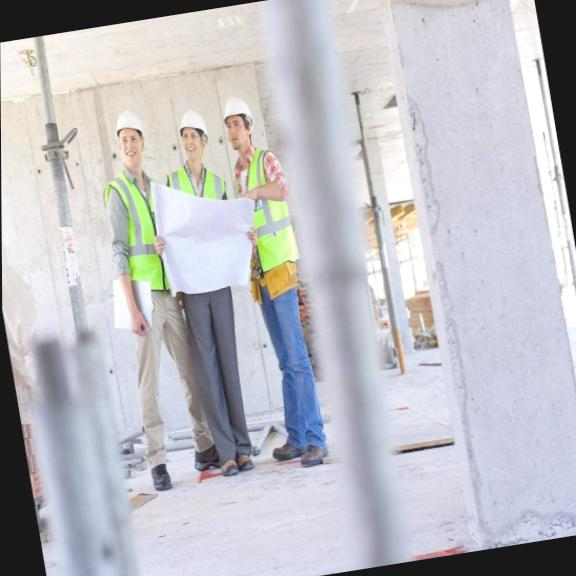safety_vest: (98, 162, 181, 290), (225, 144, 304, 264), (162, 156, 235, 242)
